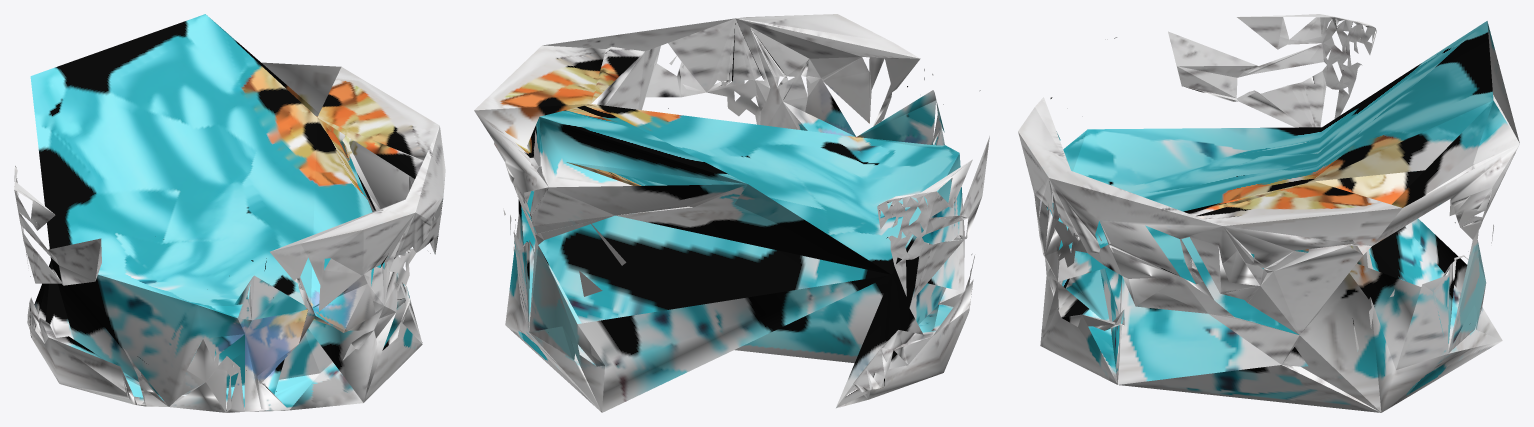
The model's file is poolhouse-basket.glb.
3 views of the same model, side by side, from view 1: azimuth 30°, elevation 25°; view 2: azimuth 150°, elevation 25°; view 3: azimuth 270°, elevation 25° (orthographic). The views are drawn at different scales.
Parts seen in each view (by area): view 1: geometry_0.001; view 2: geometry_0.001; view 3: geometry_0.001.
Part boxes in pixels (left/top/right/bottom): geometry_0.001: left=14, top=14, right=445, bottom=412; geometry_0.001: left=474, top=14, right=989, bottom=412; geometry_0.001: left=1018, top=14, right=1519, bottom=412.
Size of the model in its own units: 0.9814 by 0.5839 by 0.9735.
1 material, 1 textured.
